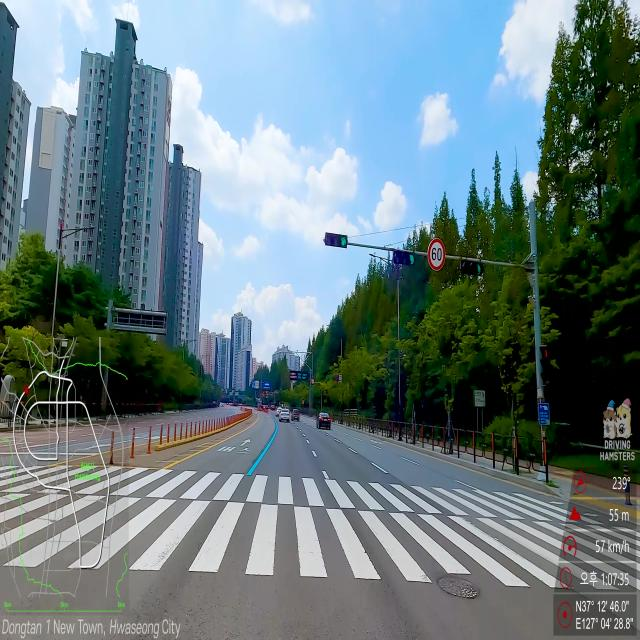Green Light: (340, 235, 347, 247), (409, 252, 415, 265), (476, 262, 481, 274)
